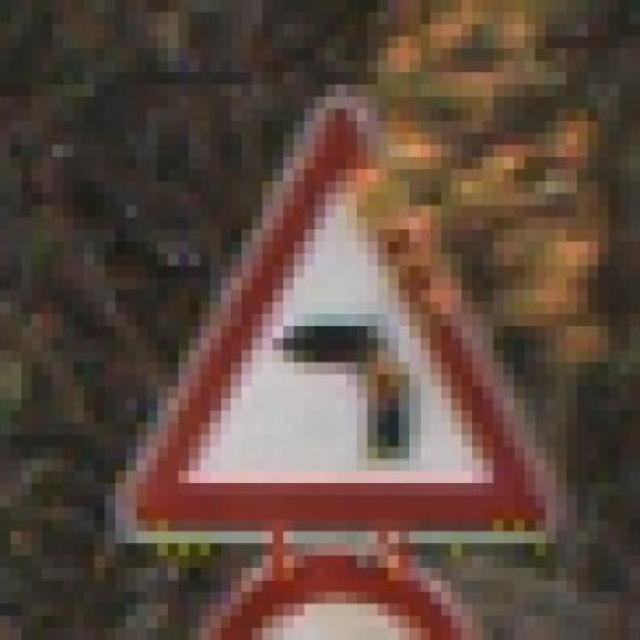Dangerous Left Curve Ahead: (115, 72, 588, 543)
